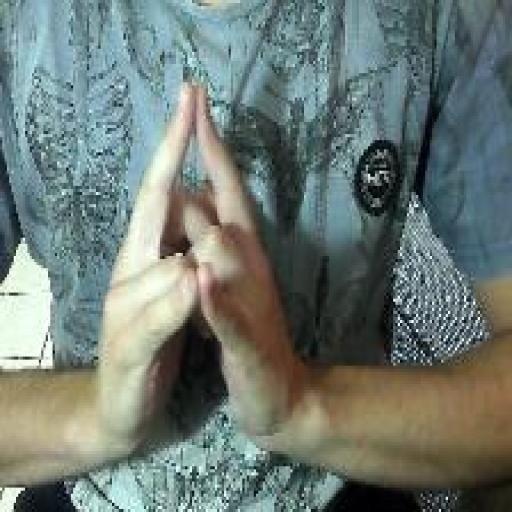Tori -bird-: (96, 73, 293, 460)
